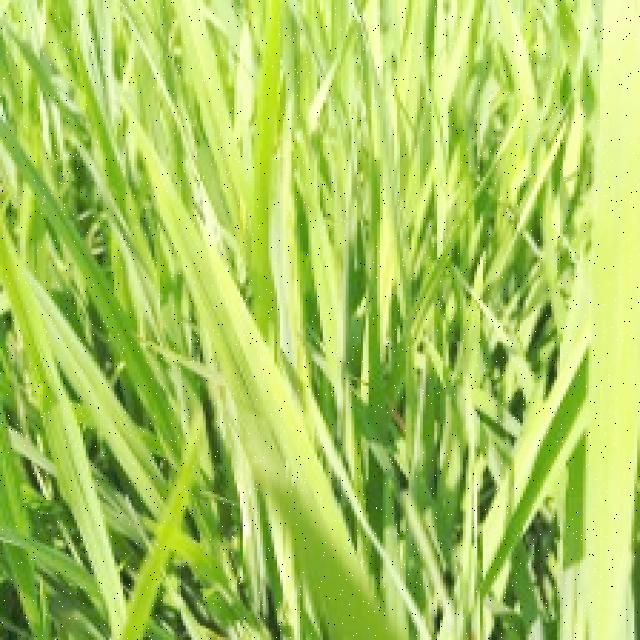health: (122, 100, 414, 640)
